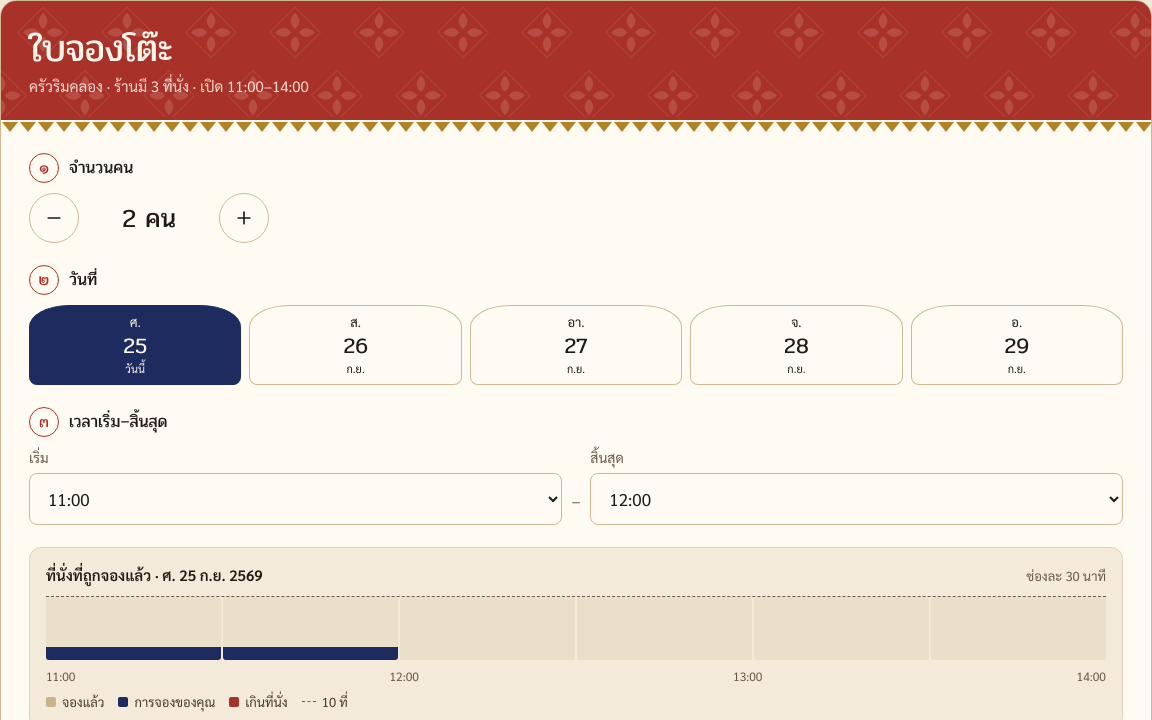
Scenario: BookingTicket › จำนวนคนเพิ่มได้ไม่เกินที่นั่งร้าน
Click the button named "เพิ่มจำนวนคน" at x=244, y=218, box [219,193,269,243]
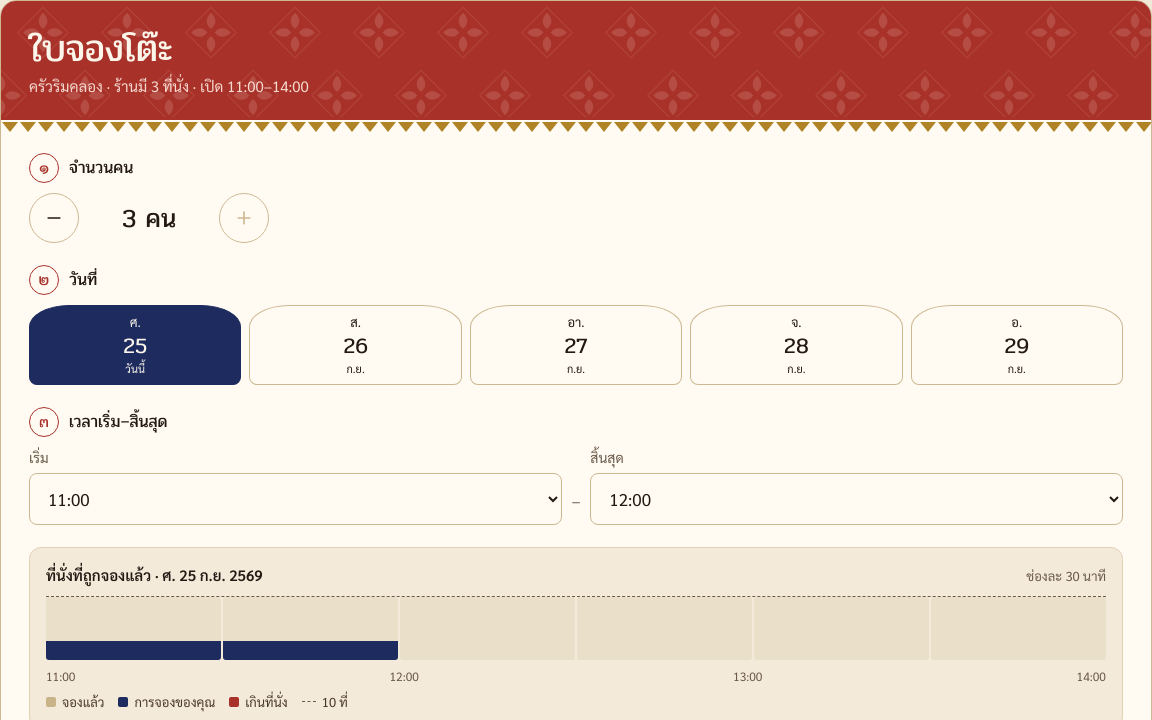
Result: the text "3 คน" is shown at [122,198,176,238]
Result: the button named "เพิ่มจำนวนคน" is disabled at [219,193,269,243]
